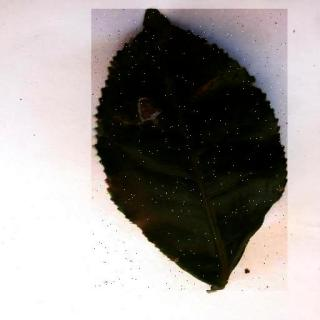Algal Leaf: (93, 10, 289, 293)
